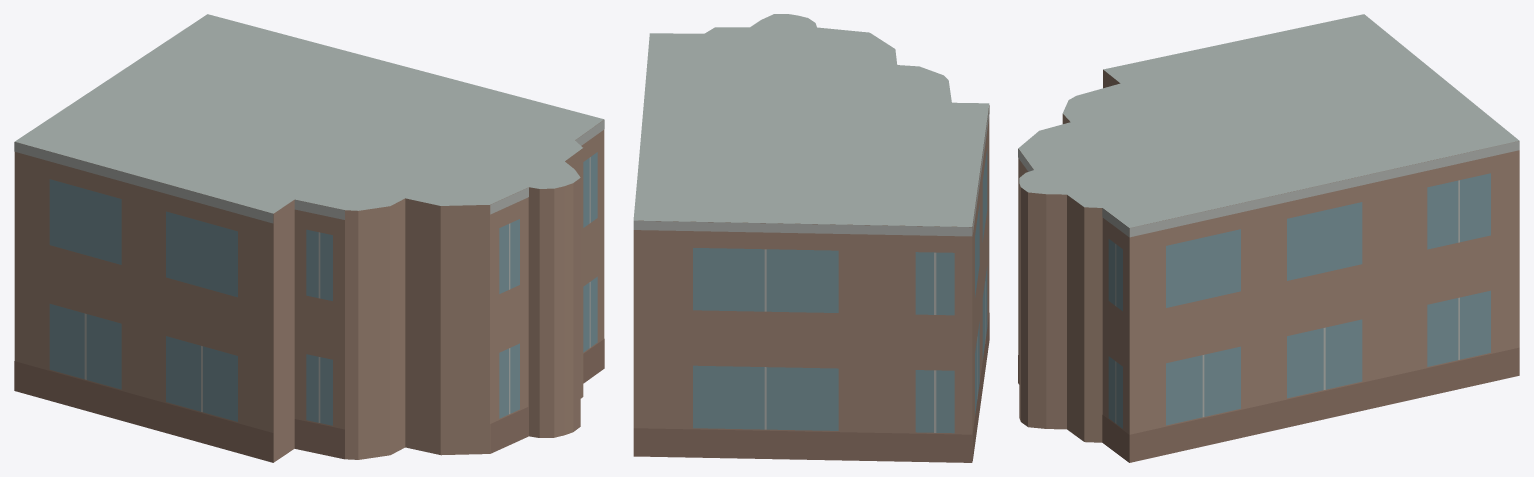
File: survey-upis-32602876.glb
The picture shows the model from 3 angles, left to right: view 1: azimuth 30°, elevation 25°; view 2: azimuth 150°, elevation 25°; view 3: azimuth 270°, elevation 25°; orthographic projection. The views are drawn at different scales.
Parts seen in each view (by area): view 1: survey-upis-32602876.tmp; view 2: survey-upis-32602876.tmp; view 3: survey-upis-32602876.tmp.
Part boxes in pixels (x1,y1,x2,y2): survey-upis-32602876.tmp: (14, 14, 604, 462); survey-upis-32602876.tmp: (633, 14, 989, 462); survey-upis-32602876.tmp: (1018, 14, 1519, 462).
Size of the model in its own units: 11.93 by 6.1 by 11.82.
